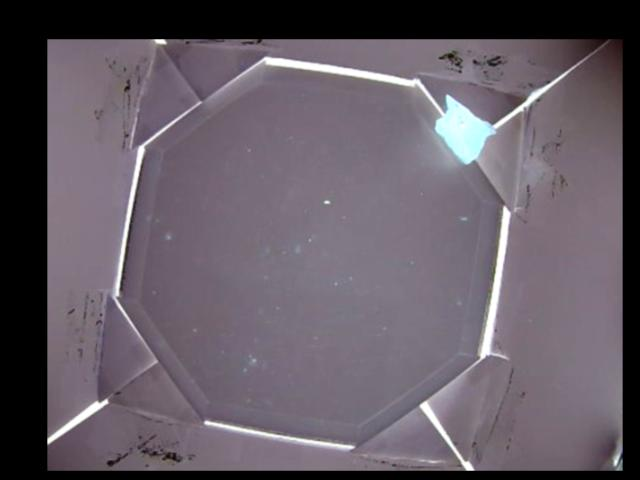Brisk: (434, 95, 497, 163)
